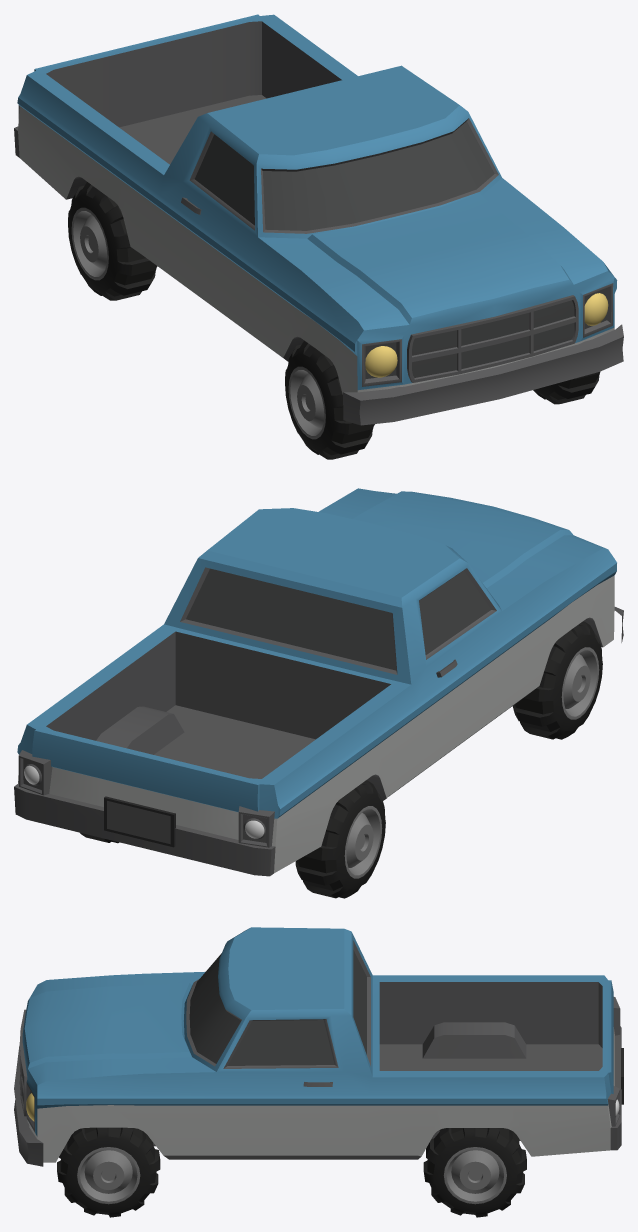
The model's file is traffic-truck-lod0.glb.
3 views of the same model, one above another, from view 1: azimuth 30°, elevation 25°; view 2: azimuth 150°, elevation 25°; view 3: azimuth 270°, elevation 25° (orthographic). The views are drawn at different scales.
Parts seen in each view (by area): view 1: BackWheels, Pickup; view 2: BackWheels; view 3: BackWheels.
Part boxes in pixels (<box>): BackWheels: <box>14,14,623,459</box>; Pickup: <box>365,293,608,377</box>; BackWheels: <box>14,488,623,898</box>; BackWheels: <box>14,927,623,1217</box>.
Bounding box in the file's own units: 2.31 × 1.85 × 5.18.
Materials: 3 (1 with a texture image).
